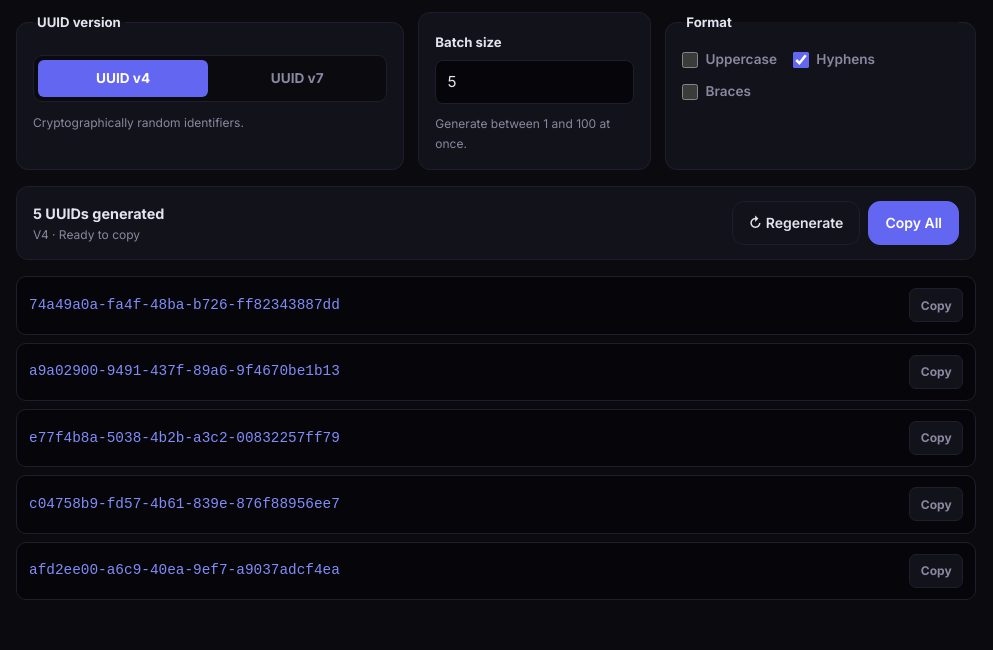
Scenario: UuidTool clipboard management › copies one UUID and shows row-specific confirmation
Click the button with aria-label "Copy UUID 1" at (936, 305), box [909,288,963,322]
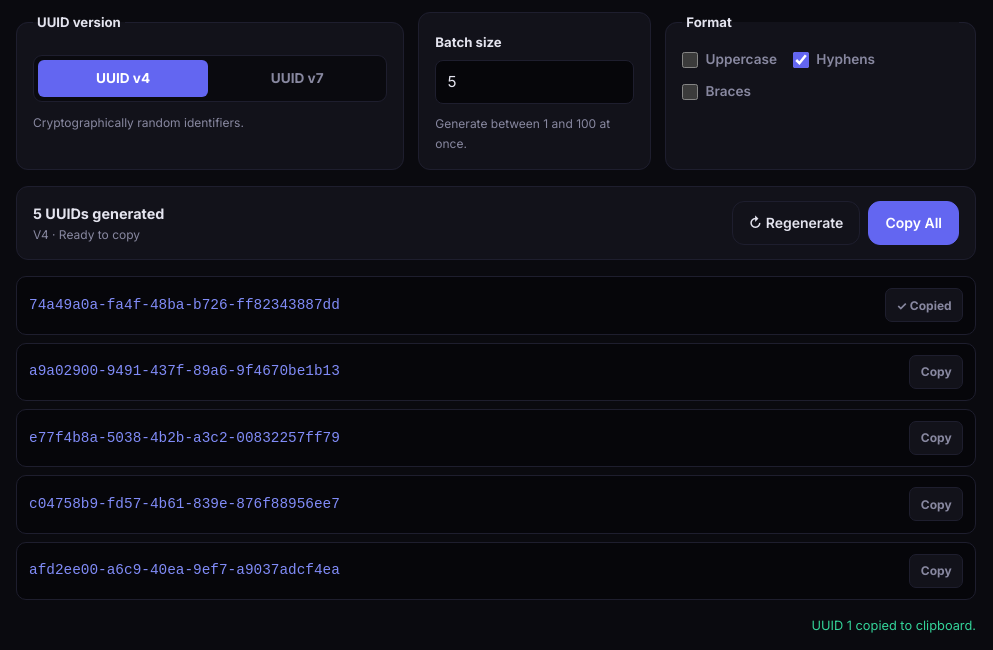
Expected: the button with aria-label "UUID 1 copied" shows "Copied", [885,288,963,322]
Expected: the message reads "UUID 1 copied to clipboard.", [811,618,976,633]
